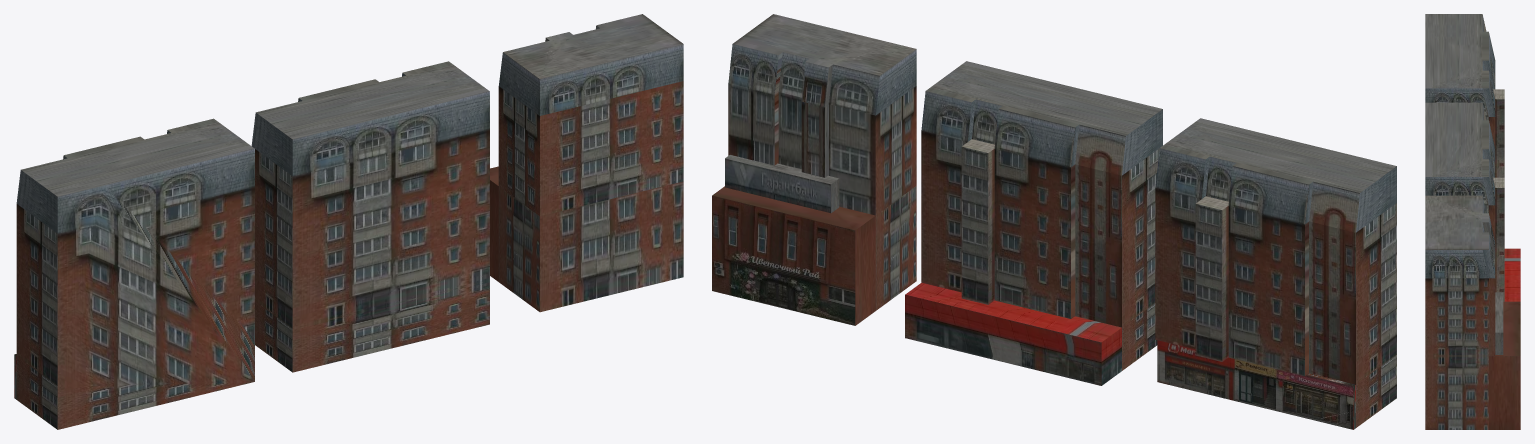
Rendered from spalny.glb.
The picture shows the model from 3 angles, left to right: view 1: azimuth 30°, elevation 25°; view 2: azimuth 150°, elevation 25°; view 3: azimuth 270°, elevation 25°; orthographic projection. The views are drawn at different scales.
Visible parts, largest first — view 1: Cube_Material.001_0.001; view 2: Cube_Material.001_0.001; view 3: Cube_Material.001_0.001.
Boxes of the visible parts, x1,y1,x2,y2 form: Cube_Material.001_0.001: [14, 14, 683, 429]; Cube_Material.001_0.001: [712, 14, 1396, 429]; Cube_Material.001_0.001: [1425, 14, 1520, 429].
Size of the model in its own units: 20 by 7.12 by 3.41.
1 material, 1 textured.
